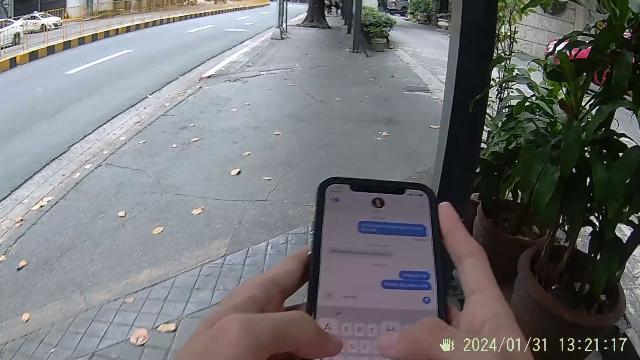potted_plant: (474, 162, 614, 349), (362, 20, 398, 54)
tree: (300, 4, 330, 26)
utility_post: (270, 1, 294, 43)
